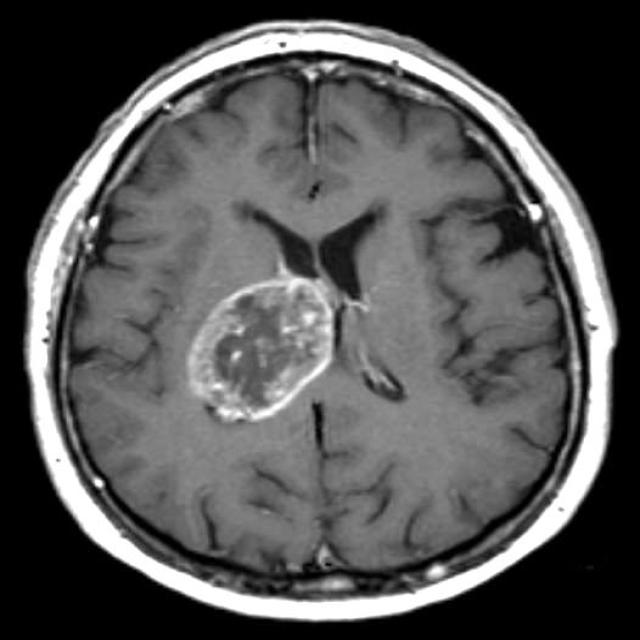Tumor-Cell: (183, 274, 336, 401)
